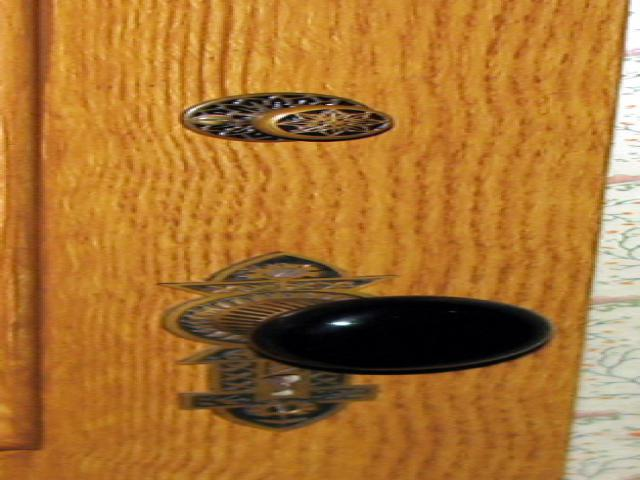Door-handle: (148, 249, 555, 436), (175, 90, 396, 144)
